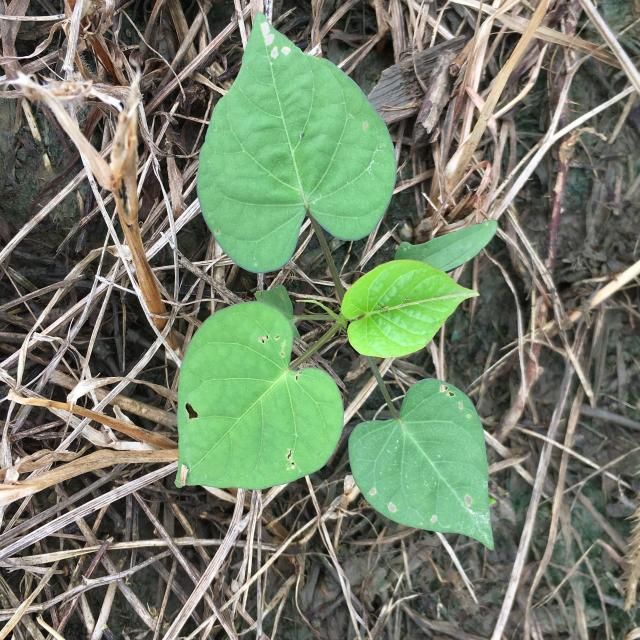MorningGlory: (175, 11, 500, 551)
